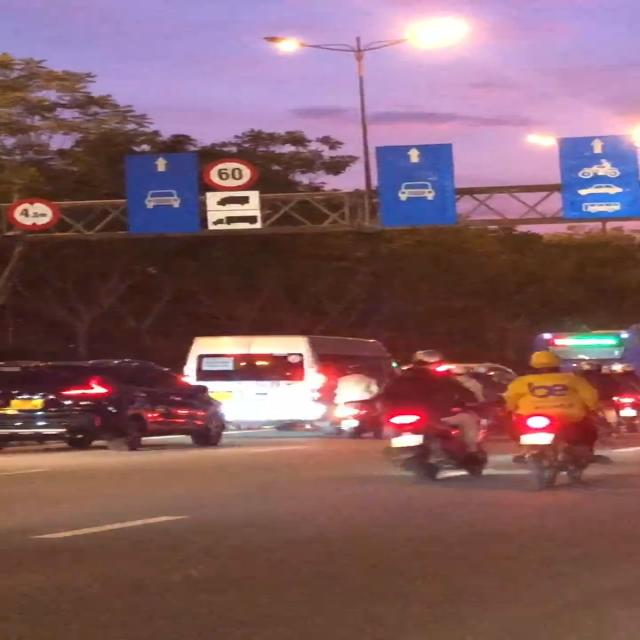Bien bao han che chieu cao: (10, 195, 62, 235)
Bien bao toc do toi da cho phep: (200, 154, 258, 191)
